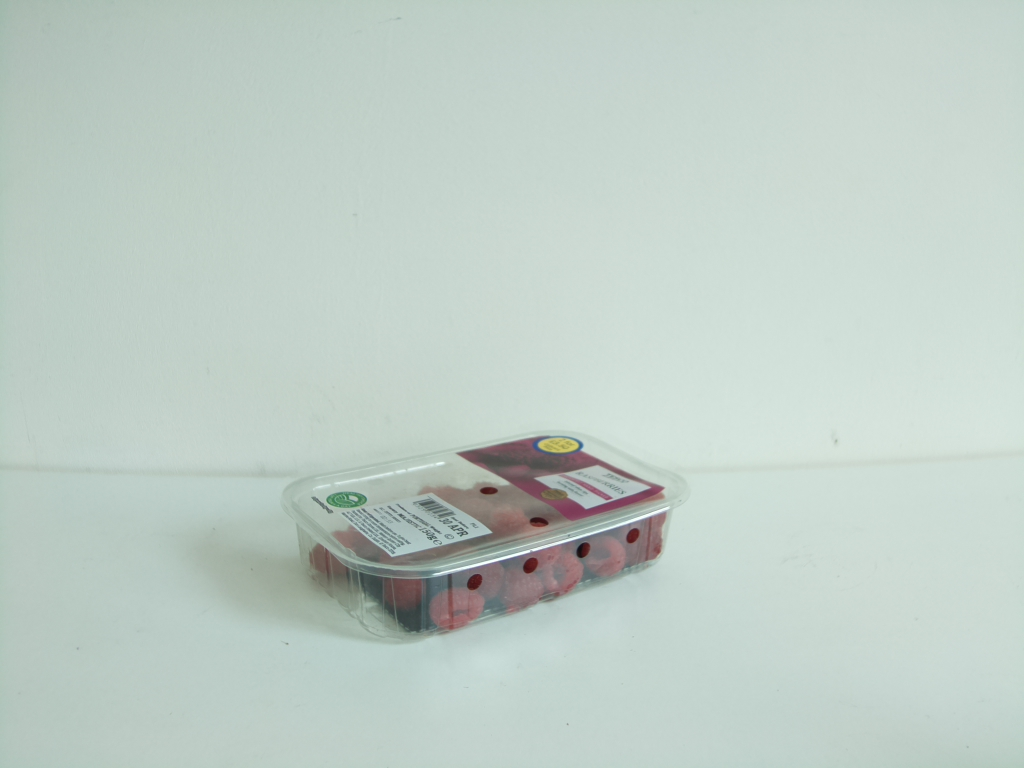soft-fruit: (280, 428, 682, 645)
